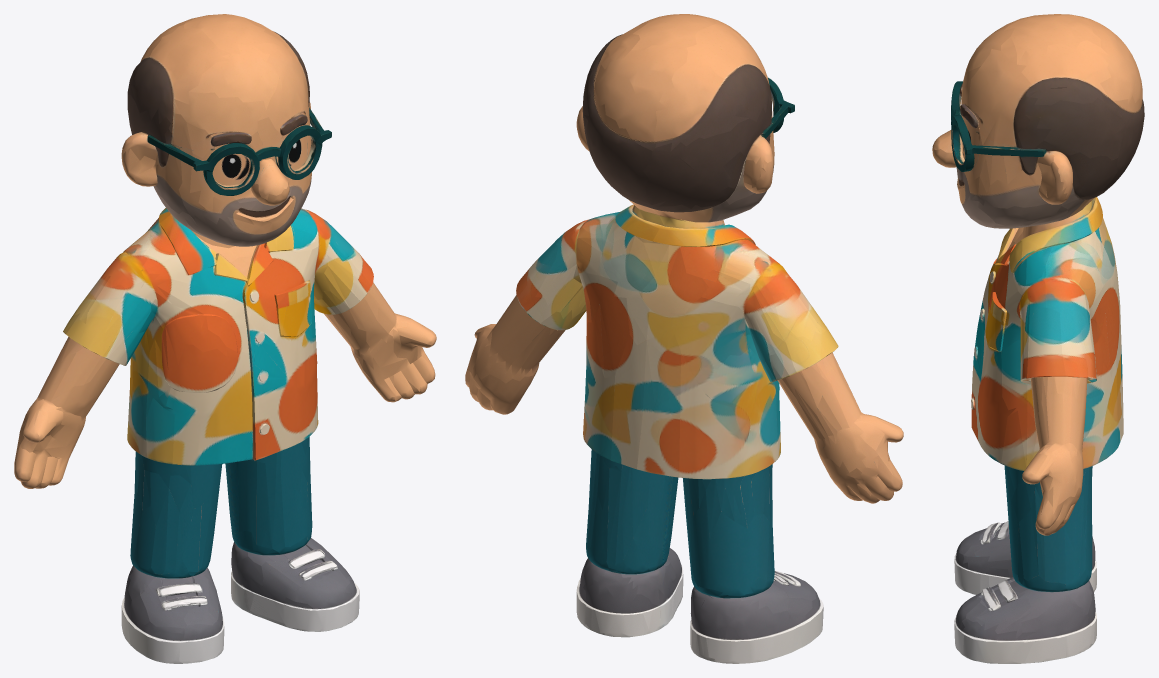
The picture shows the model from 3 angles, left to right: view 1: azimuth 30°, elevation 25°; view 2: azimuth 150°, elevation 25°; view 3: azimuth 270°, elevation 25°; orthographic projection. The views are drawn at different scales.
Size of the model in its own units: 1.42 by 1.9 by 0.6204.
Materials: 1 (1 with a texture image).
